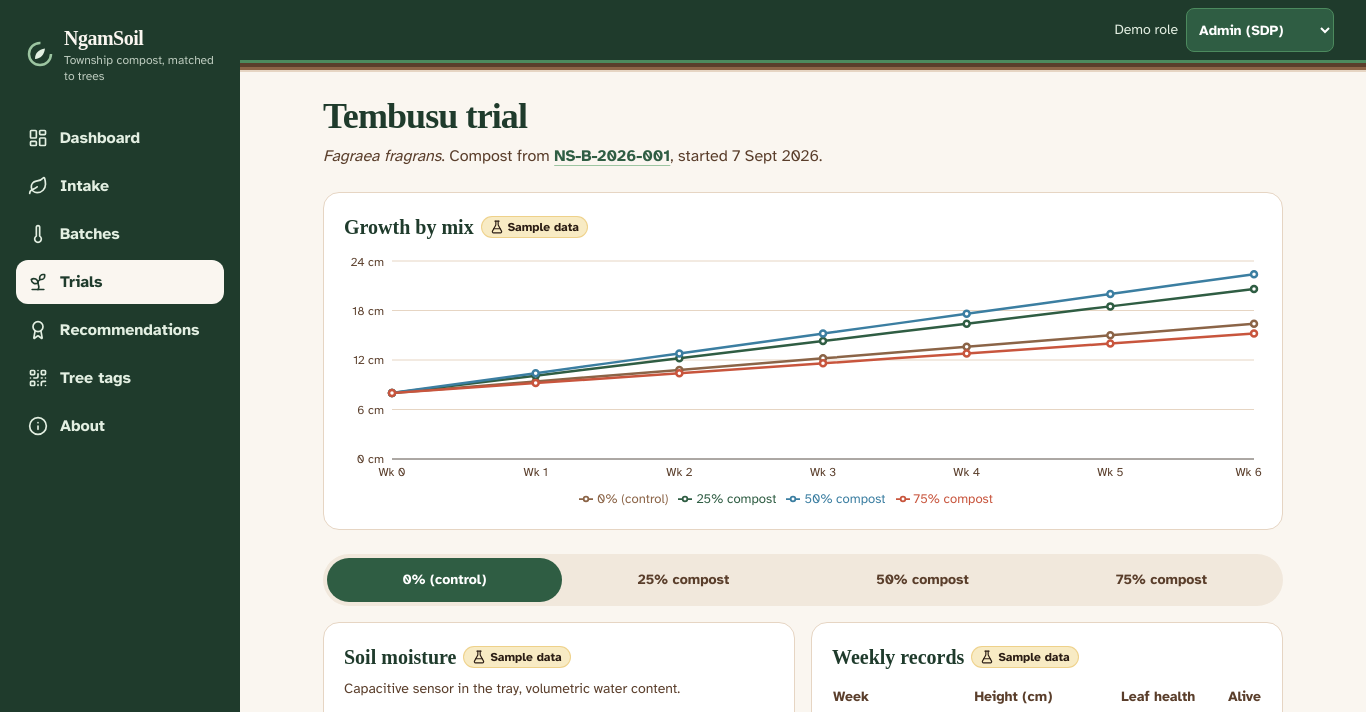
TrialDetailPage › a death log lowers the alive count
Click the tab "25% compost": (684, 580) top-left (566, 558), bottom-right (801, 602)
(page scrolled)
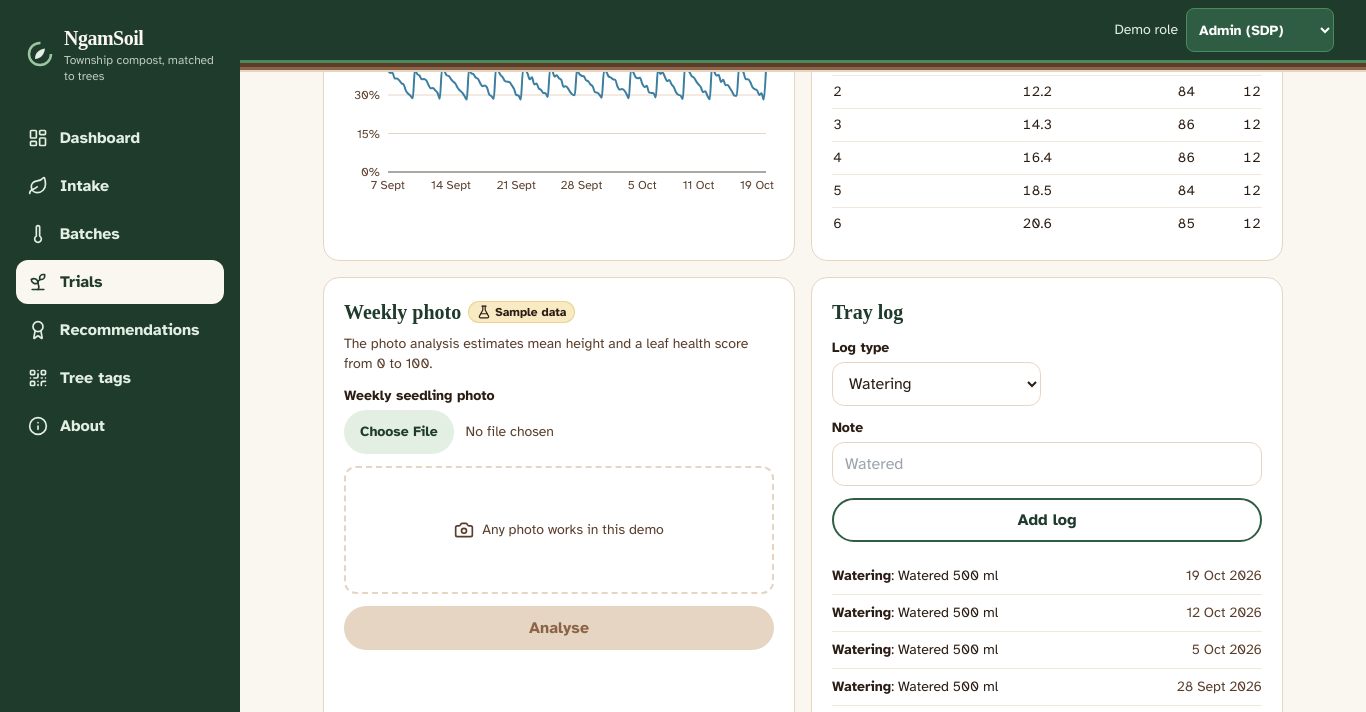
Result: the cell "12" in the row of "20.6" is shown at top-left (1243, 215), bottom-right (1261, 232)
Select "Death" in the dropdown labelled "Log type": (936, 384) top-left (832, 362), bottom-right (1041, 406)
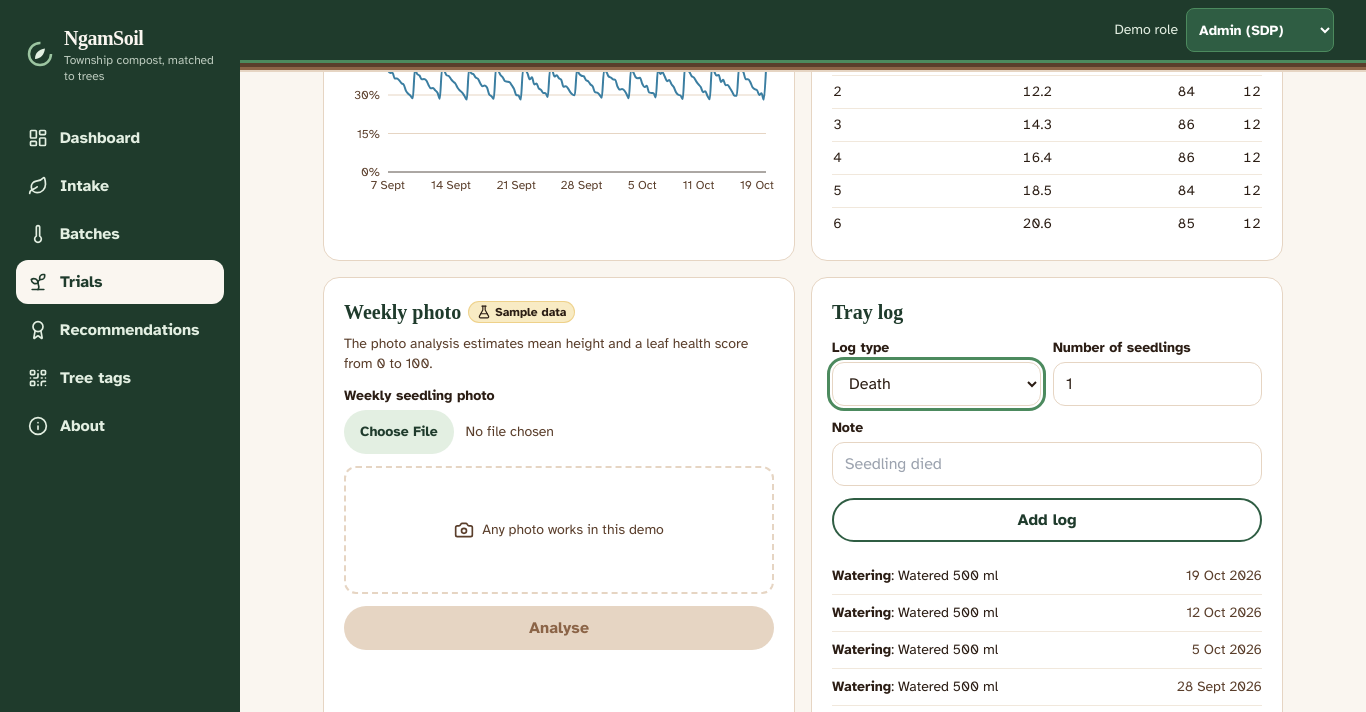
Replace the text in the number field labelled "Number of seedlings" with "2": (1158, 384) top-left (1053, 362), bottom-right (1262, 406)
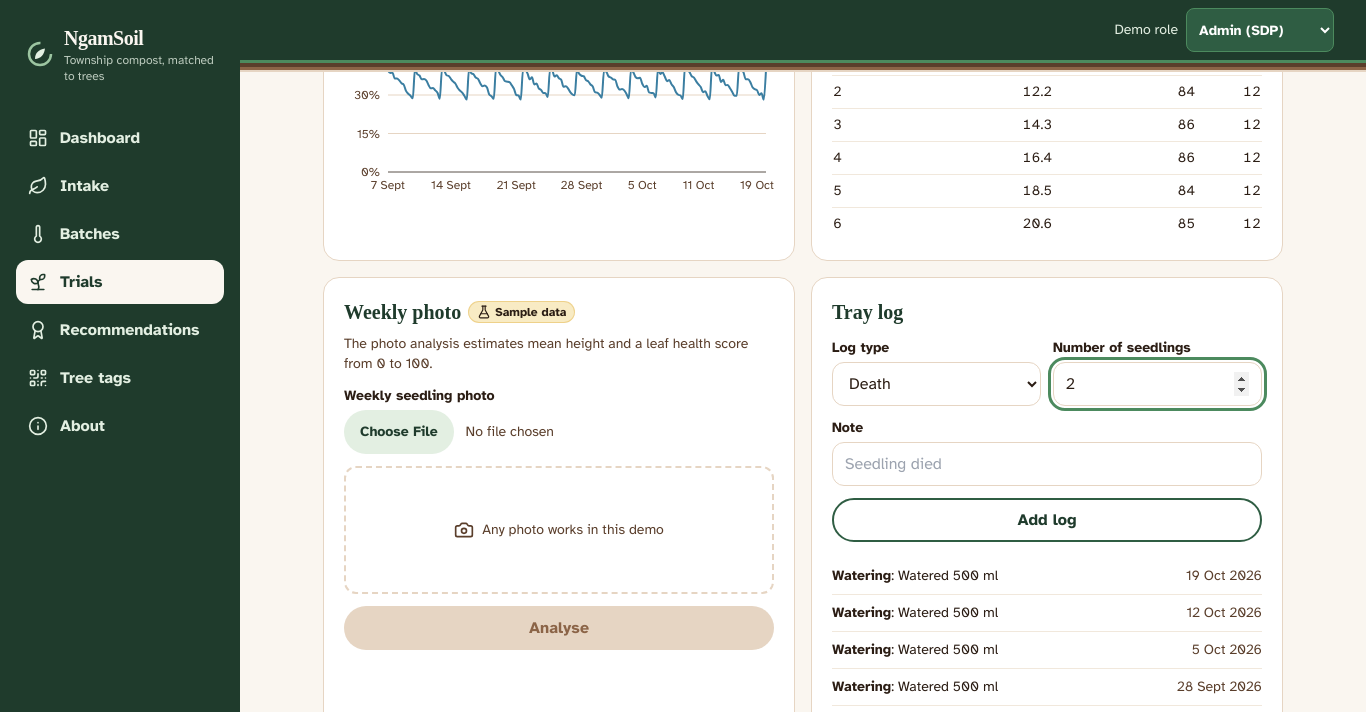
Click the button "Add log": (1047, 520) top-left (832, 498), bottom-right (1262, 542)
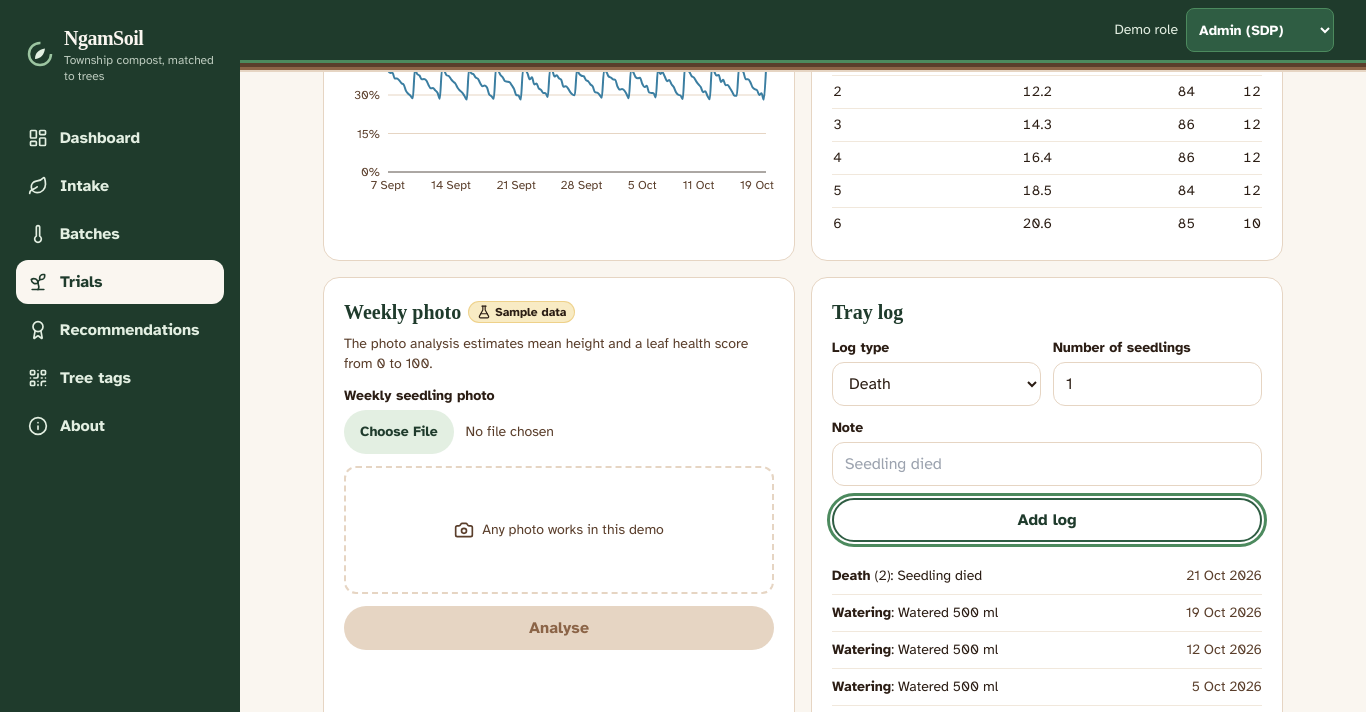
Result: the cell "10" is shown at top-left (1196, 208), bottom-right (1262, 240)
